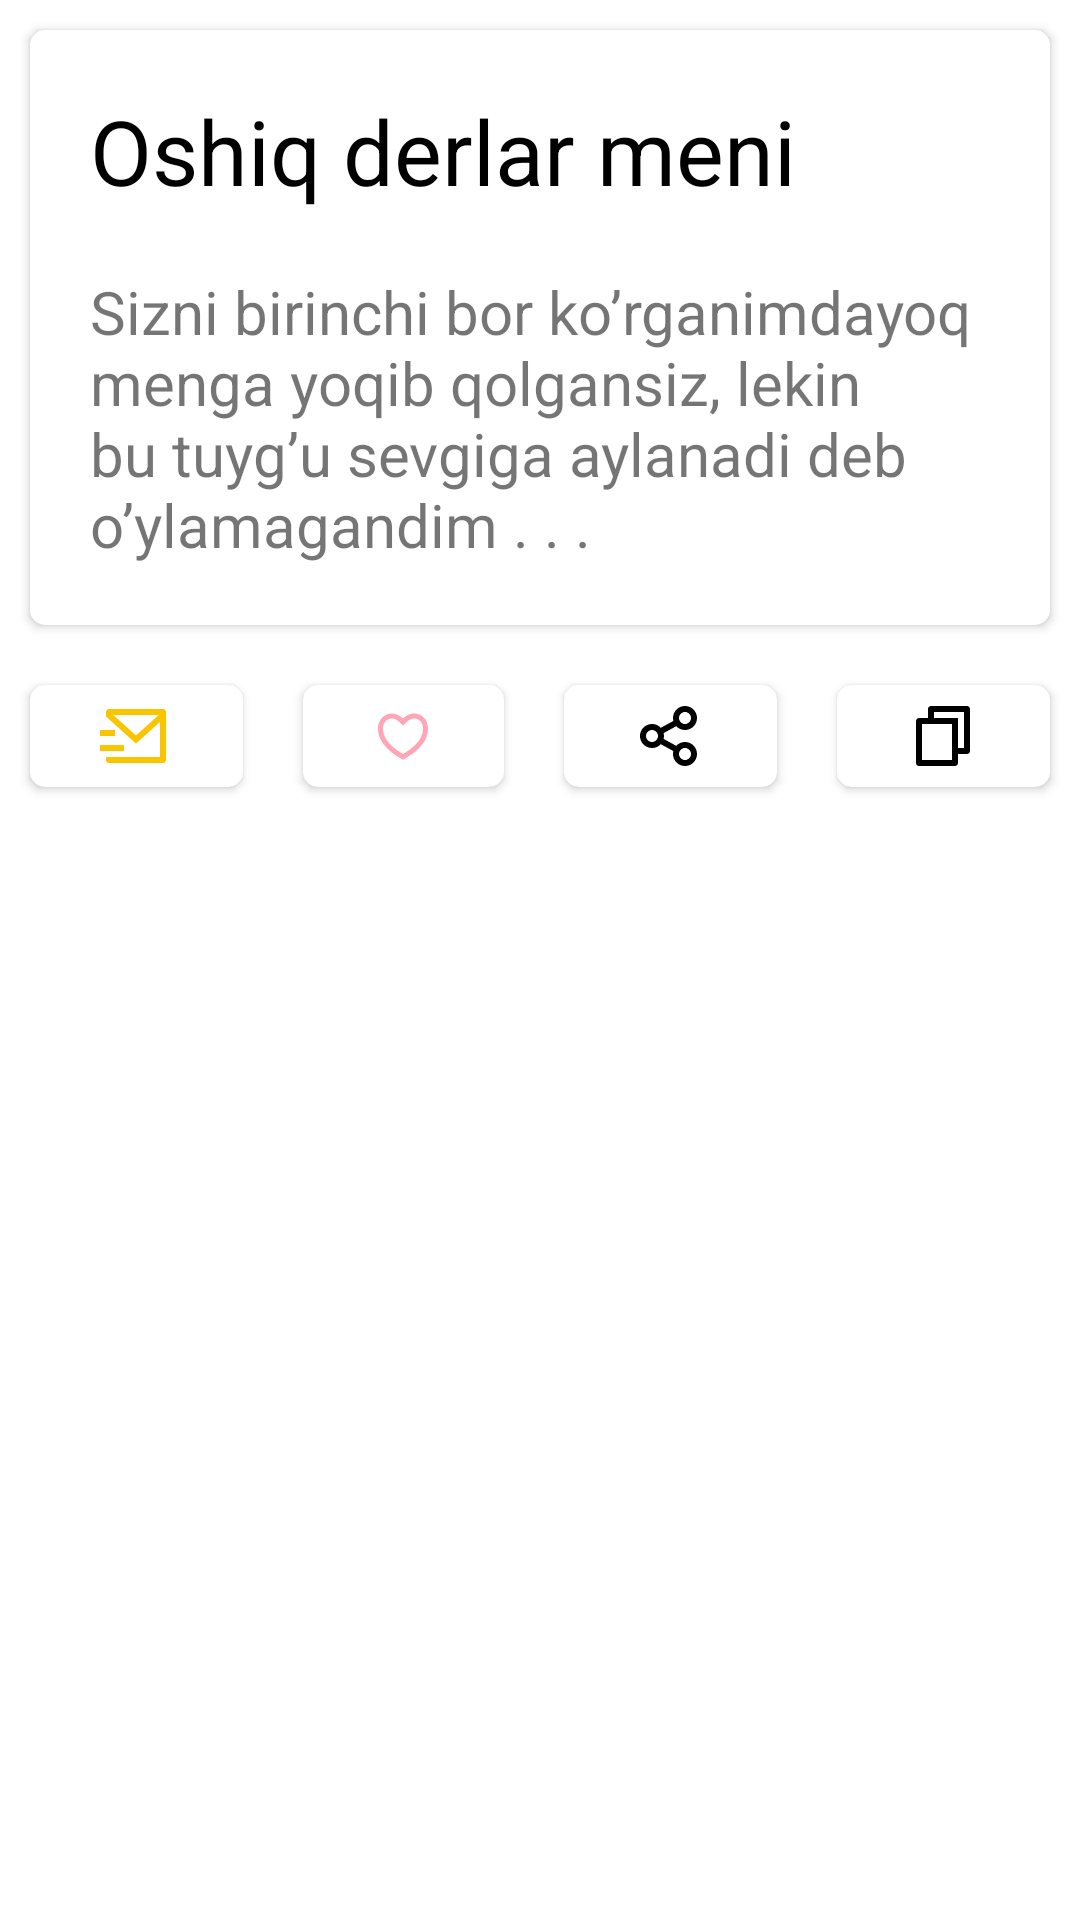

Named icons in this screenshot (1080x1920) and their centers, point (x, y):
saqlanganlar: point (403, 736)
share: point (668, 736)
